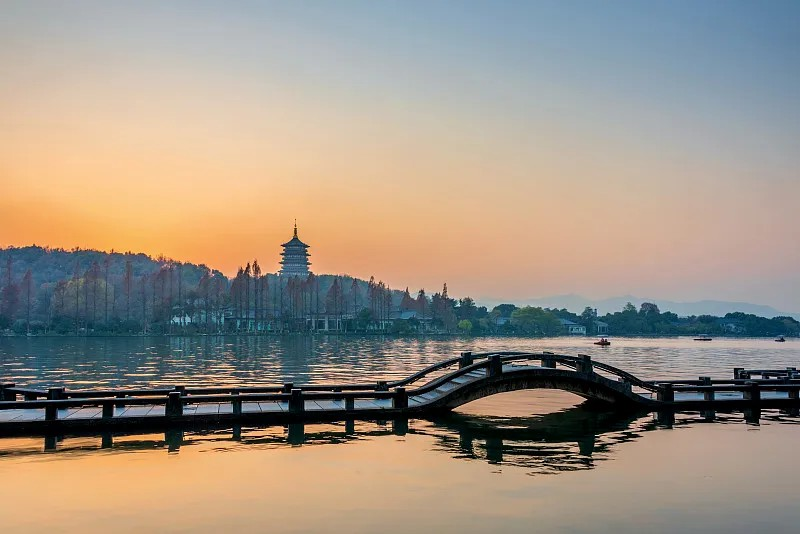Leifeng: (277, 217, 312, 277)
